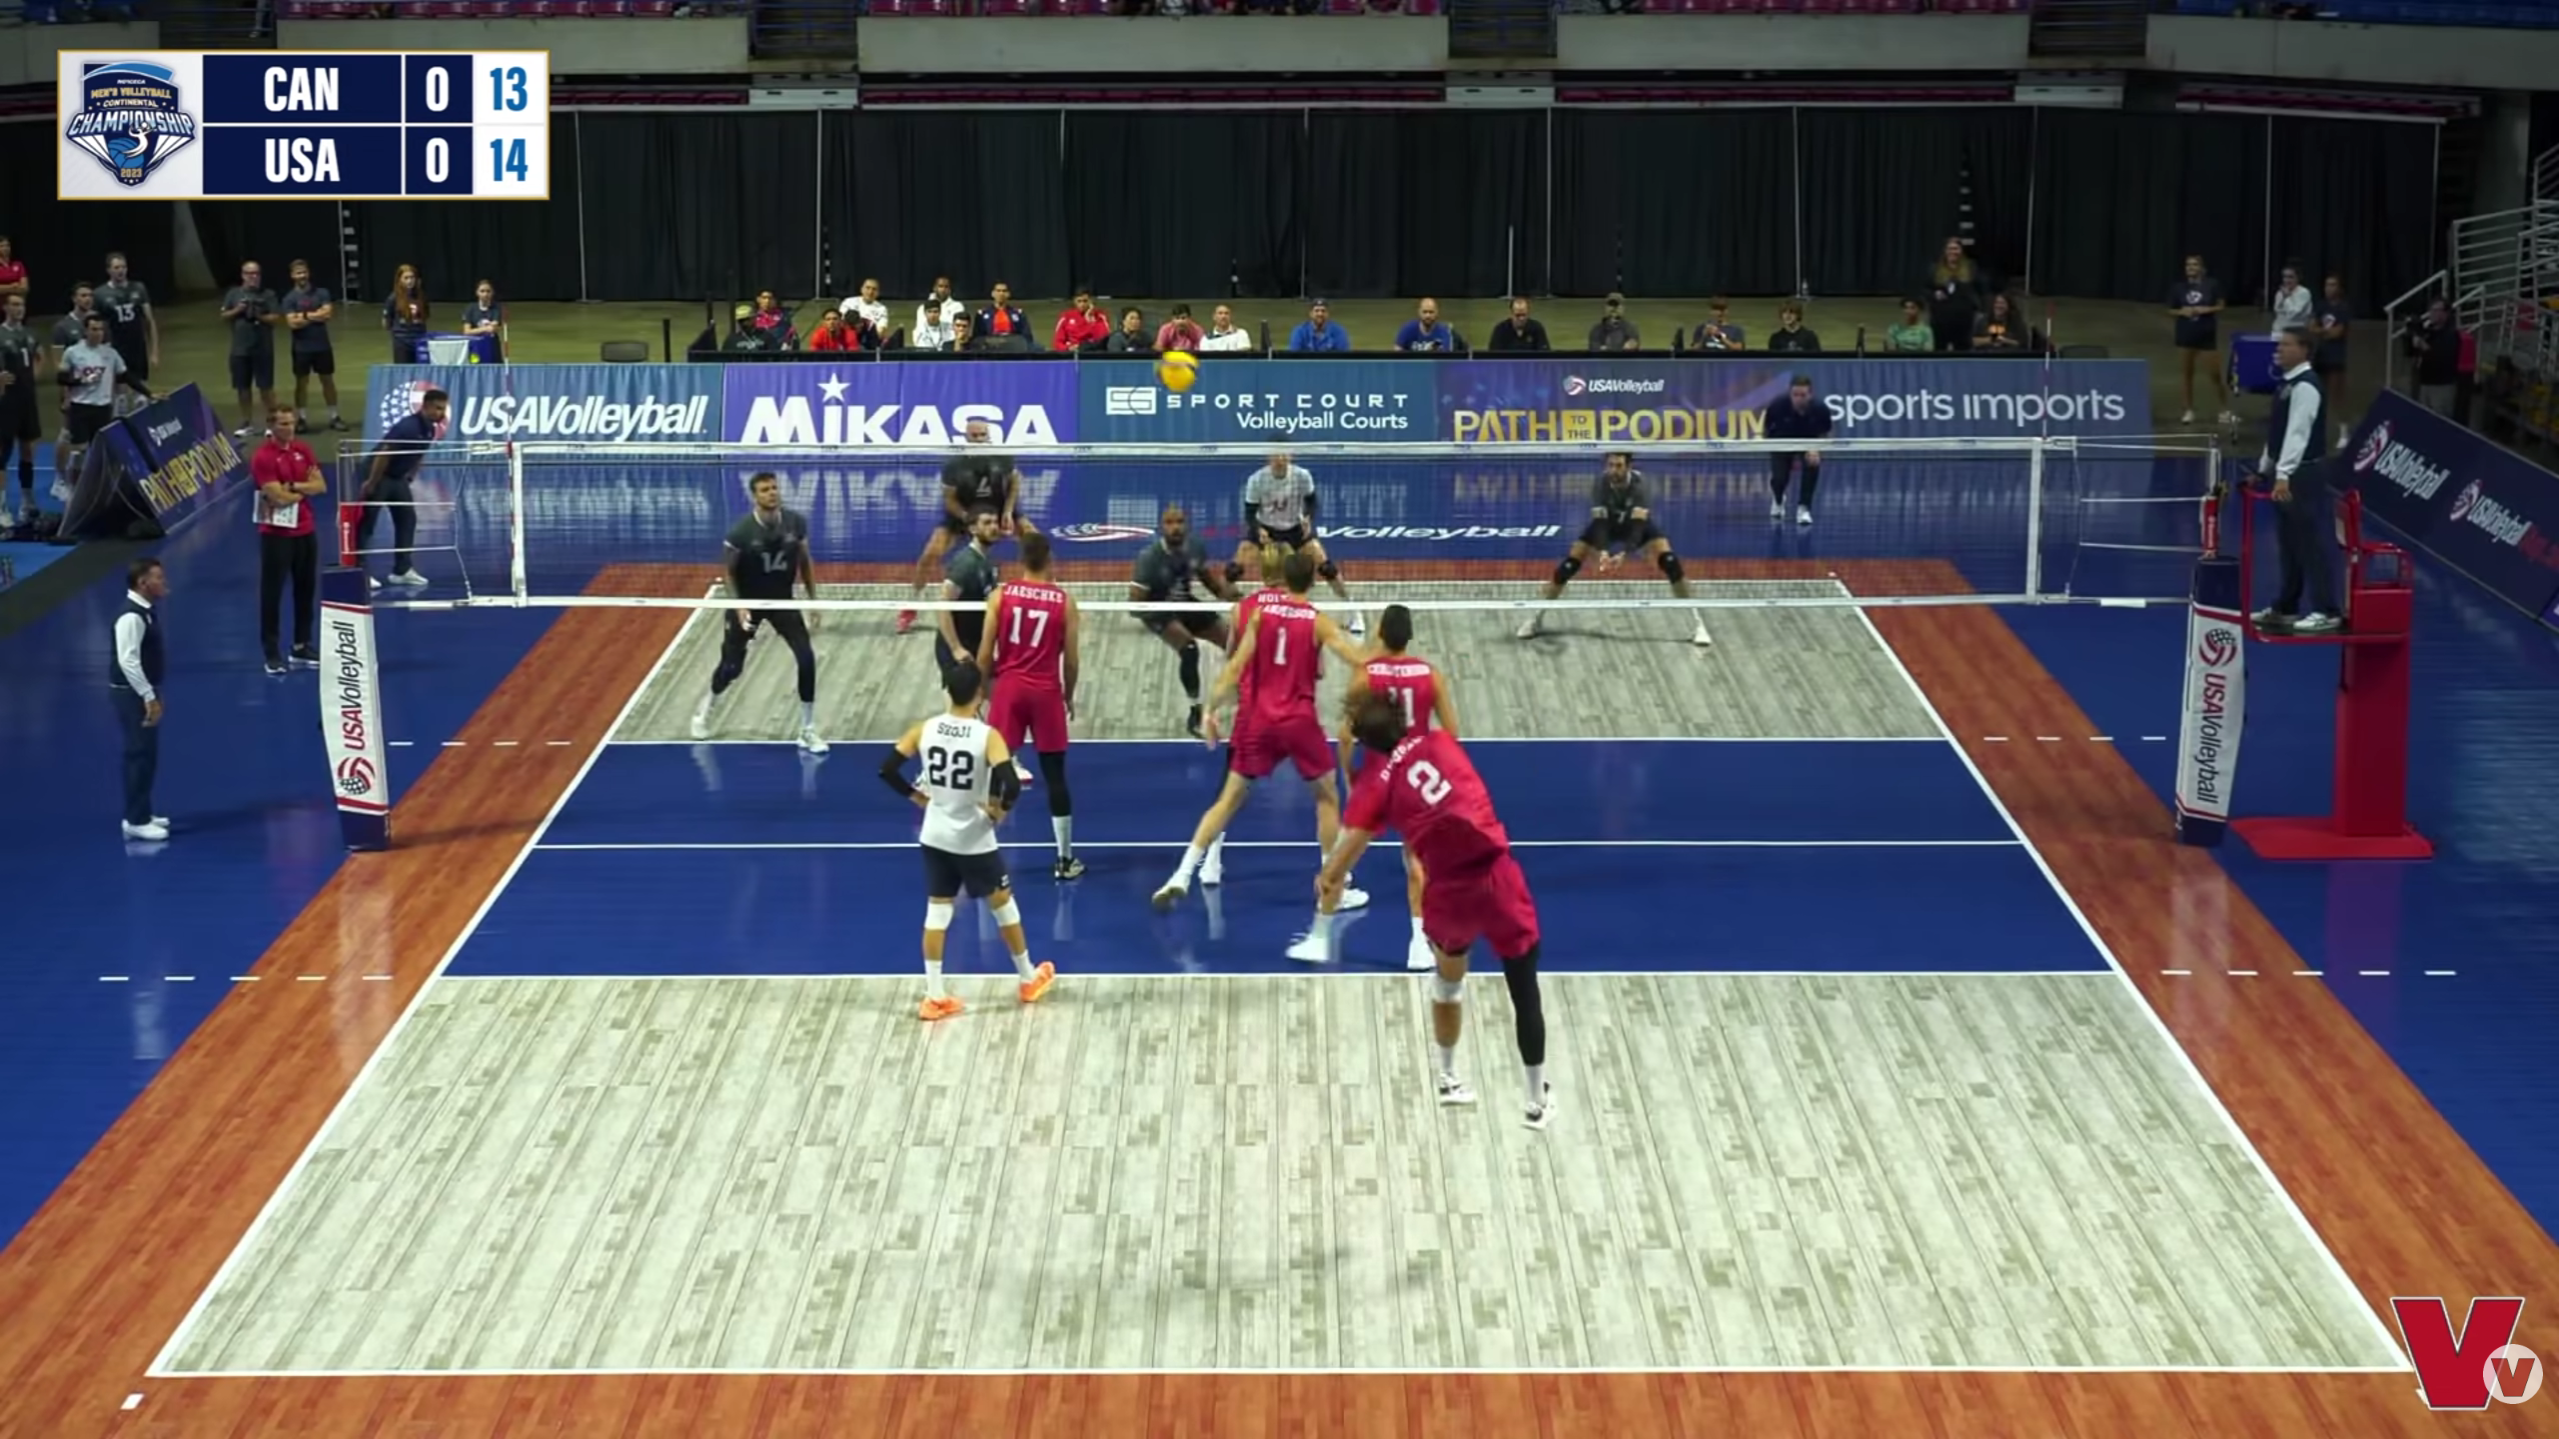Ball: (1151, 346, 1200, 395)
